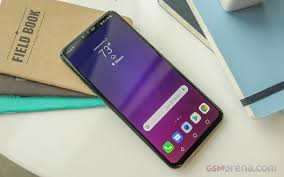lg: (57, 5, 224, 172)
